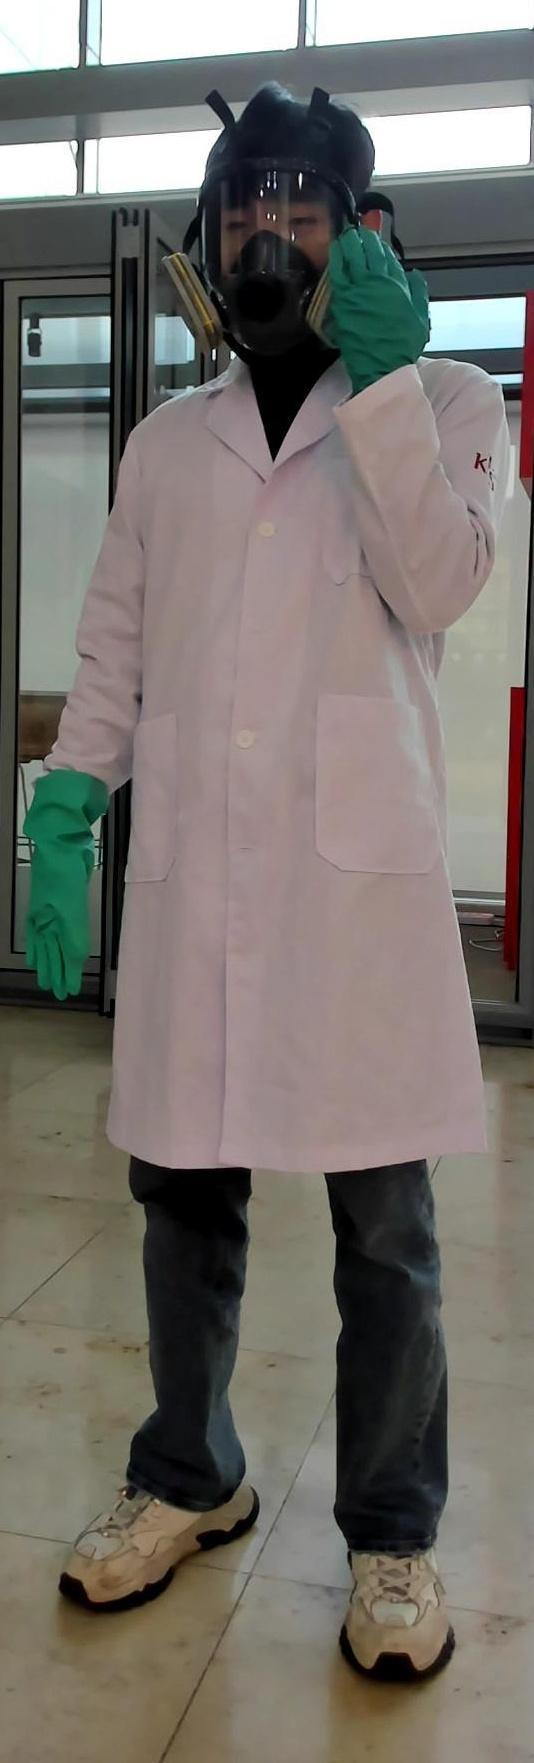lab_coat: (107, 387, 503, 1154)
